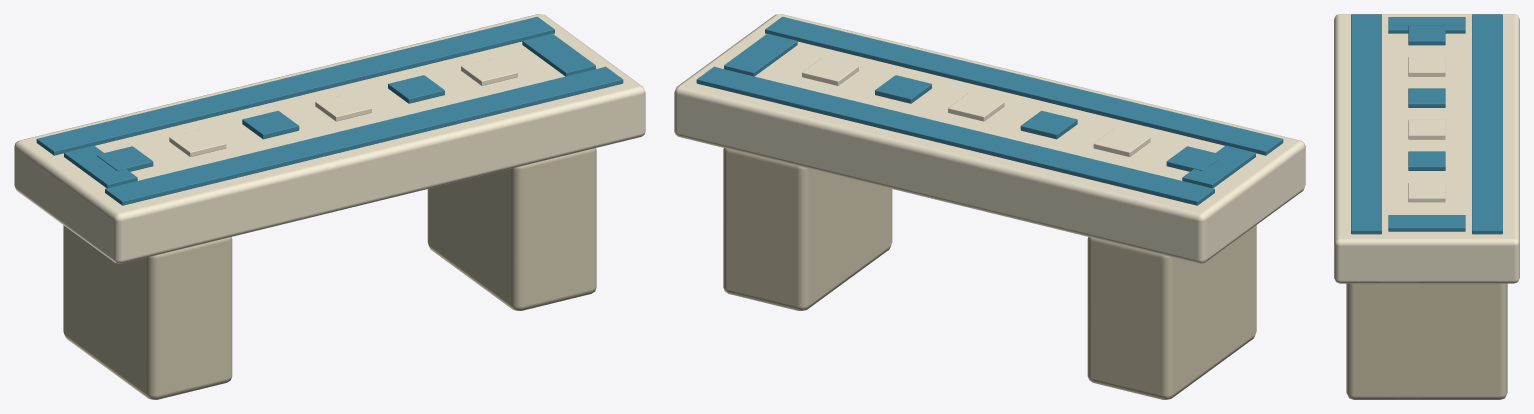
File: fantasy-bathhouse-and-thermal-sanctuary-fantasy-bathho-2cc9927b__29455.glb
3 renders of one model, left to right at view 1: azimuth 30°, elevation 25°; view 2: azimuth 150°, elevation 25°; view 3: azimuth 270°, elevation 25°, orthographic. The views are drawn at different scales.
Visible parts, largest first — view 1: fantasy-bathhouse-and-thermal-sanctuary-pool-edge-bench; view 2: fantasy-bathhouse-and-thermal-sanctuary-pool-edge-bench; view 3: fantasy-bathhouse-and-thermal-sanctuary-pool-edge-bench.
Part boxes in pixels (<box>): fantasy-bathhouse-and-thermal-sanctuary-pool-edge-bench: <box>14,14,645,399</box>; fantasy-bathhouse-and-thermal-sanctuary-pool-edge-bench: <box>674,14,1305,399</box>; fantasy-bathhouse-and-thermal-sanctuary-pool-edge-bench: <box>1334,14,1519,399</box>.
Size of the model in its own units: 1.75 by 0.657 by 0.5999.
